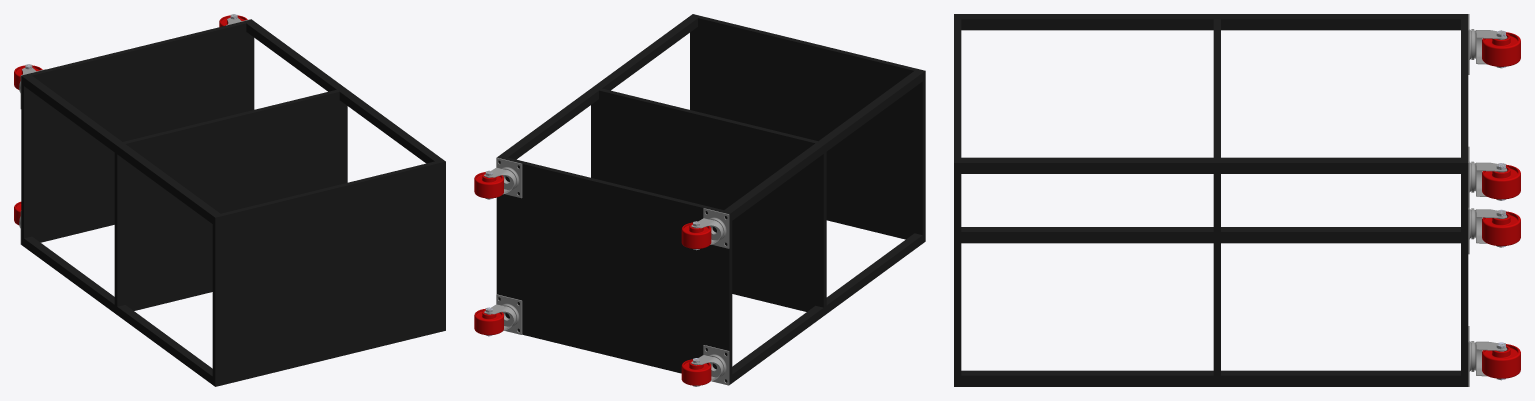
Rendered from Rolling_Cart v2.fbx.
3 renders of one model, left to right at view 1: azimuth 30°, elevation 25°; view 2: azimuth 150°, elevation 25°; view 3: azimuth 270°, elevation 25°, orthographic. The views are drawn at different scales.
Visible parts, largest first — view 1: Body1 (×6); view 2: Body1 (×10), Body2 (×4); view 3: Body1 (×11).
Part boxes in pixels (box(x1,y1,x2,y2)): Body1 (×6): box(21, 19, 445, 386); Body1 (×10): box(474, 14, 925, 385); Body2 (×4): box(496, 157, 729, 385); Body1 (×11): box(954, 14, 1520, 386).
Bounding box in the file's own units: 29.44 × 20 × 45.85.
